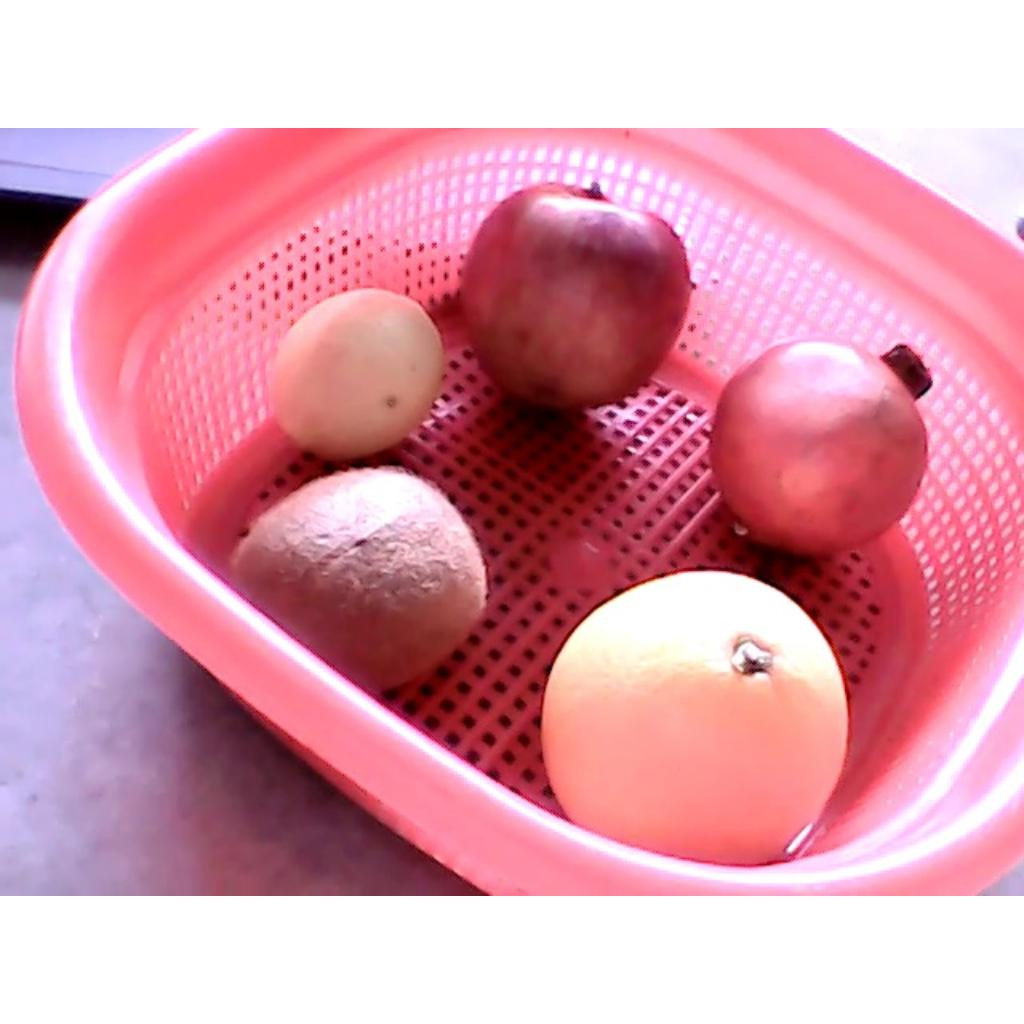apple: (461, 179, 691, 412)
kiwi: (228, 466, 490, 686)
lemon: (266, 287, 444, 460)
orange: (540, 570, 849, 867)
pomegranate: (710, 339, 929, 555)
